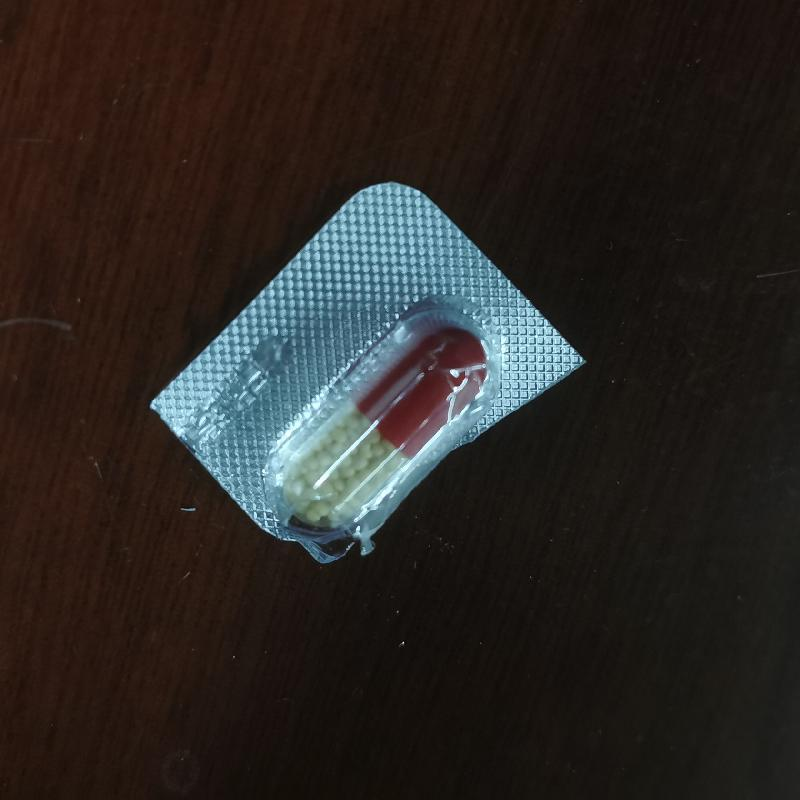pills: (265, 326, 496, 525)
